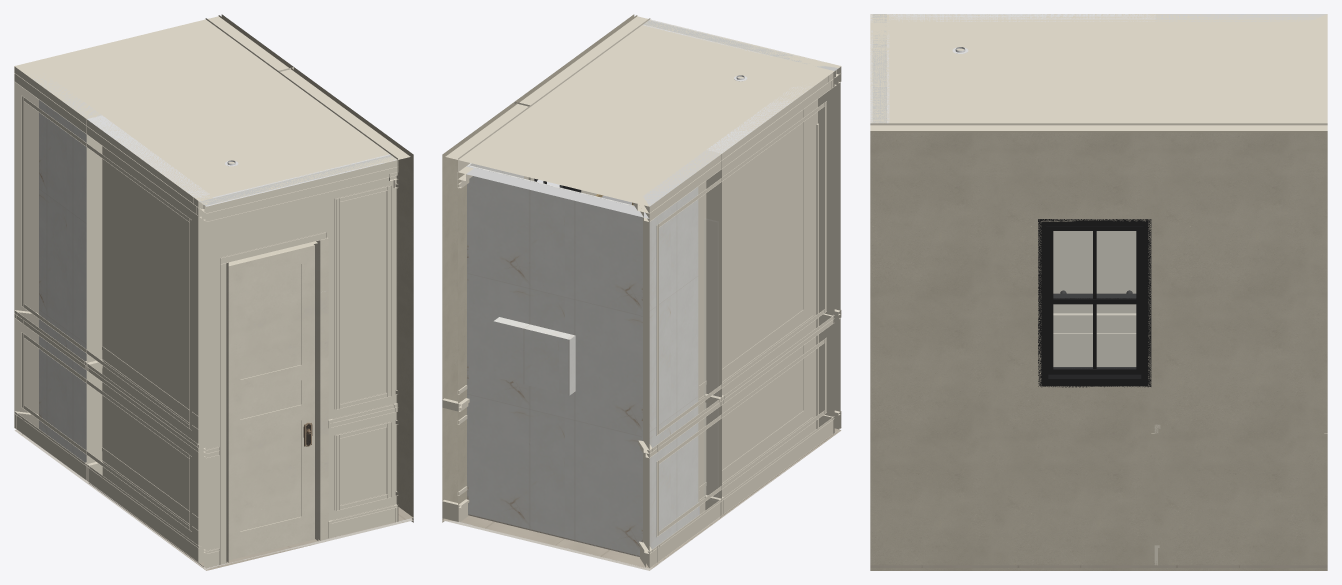
File: loli-bathroom-0c143732f2b9.glb
The picture shows the model from 3 angles, left to right: view 1: azimuth 30°, elevation 25°; view 2: azimuth 150°, elevation 25°; view 3: azimuth 270°, elevation 25°; orthographic projection. The views are drawn at different scales.
Parts seen in each view (by area): view 1: loli-bathroom-2575515a05775d9e, loli-bathroom-03bdd0165789d12b, loli-bathroom-0e637d2be41161fb, loli-bathroom-eceff908bd344cec, loli-bathroom-5795d1714989146e, loli-bathroom-e64cabe238f3e83a, loli-bathroom-319244b3406409d9, loli-bathroom-4a0606b58a607568, loli-bathroom-a8b6749dbb482e83, loli-bathroom-609bc1027670cc96, loli-bathroom-cc15fd6f291c811e, loli-bathroom-e2dd6cf138a61c96 (+19 smaller); view 2: loli-bathroom-51561c1911f47dcb, loli-bathroom-2575515a05775d9e, loli-bathroom-03bdd0165789d12b, loli-bathroom-5795d1714989146e, loli-bathroom-1c7325212038a6e7, loli-bathroom-e462de76b61e99cf, loli-bathroom-a90dd75c175210c7, loli-bathroom-0e637d2be41161fb, loli-bathroom-e64cabe238f3e83a, loli-bathroom-a8b6749dbb482e83, loli-bathroom-cc15fd6f291c811e, loli-bathroom-92c333610bf7beb4 (+13 smaller); view 3: loli-bathroom-319244b3406409d9, loli-bathroom-e462de76b61e99cf, loli-bathroom-2575515a05775d9e, loli-bathroom-15d1eb52c435a27e, loli-bathroom-03bdd0165789d12b, loli-bathroom-0e637d2be41161fb, loli-bathroom-3b0077416469e01b, loli-bathroom-76fec1e12e3db62a, loli-bathroom-1c7325212038a6e7, loli-bathroom-3b79cb6a0eb20f8c, loli-bathroom-687fd4d2e321b111.
Part boxes in pixels (box(x1,y1,x2,y2)): loli-bathroom-2575515a05775d9e: box(14, 15, 410, 201); loli-bathroom-03bdd0165789d12b: box(86, 115, 209, 560); loli-bathroom-0e637d2be41161fb: box(198, 154, 397, 568); loli-bathroom-eceff908bd344cec: box(228, 244, 314, 560); loli-bathroom-5795d1714989146e: box(39, 100, 86, 462); loli-bathroom-e64cabe238f3e83a: box(14, 78, 38, 428); loli-bathroom-319244b3406409d9: box(278, 67, 413, 521); loli-bathroom-4a0606b58a607568: box(318, 237, 328, 540); loli-bathroom-a8b6749dbb482e83: box(14, 412, 199, 562); loli-bathroom-609bc1027670cc96: box(206, 160, 398, 221); loli-bathroom-cc15fd6f291c811e: box(14, 67, 199, 216); loli-bathroom-e2dd6cf138a61c96: box(220, 232, 326, 564); loli-bathroom-51561c1911f47dcb: box(467, 165, 642, 556); loli-bathroom-2575515a05775d9e: box(445, 15, 840, 206); loli-bathroom-03bdd0165789d12b: box(707, 86, 833, 482); loli-bathroom-5795d1714989146e: box(641, 187, 698, 549); loli-bathroom-1c7325212038a6e7: box(643, 150, 721, 567); loli-bathroom-e462de76b61e99cf: box(442, 102, 530, 502); loli-bathroom-a90dd75c175210c7: box(493, 317, 575, 395); loli-bathroom-0e637d2be41161fb: box(643, 19, 840, 433); loli-bathroom-e64cabe238f3e83a: box(458, 165, 649, 548); loli-bathroom-a8b6749dbb482e83: box(649, 417, 834, 567); loli-bathroom-cc15fd6f291c811e: box(649, 72, 834, 221); loli-bathroom-92c333610bf7beb4: box(656, 101, 826, 435); loli-bathroom-319244b3406409d9: box(870, 123, 1155, 565); loli-bathroom-e462de76b61e99cf: box(1155, 123, 1327, 565); loli-bathroom-2575515a05775d9e: box(870, 14, 1327, 132); loli-bathroom-15d1eb52c435a27e: box(1038, 219, 1151, 387); loli-bathroom-03bdd0165789d12b: box(889, 14, 1155, 366); loli-bathroom-0e637d2be41161fb: box(870, 14, 889, 123); loli-bathroom-3b0077416469e01b: box(870, 565, 1327, 567); loli-bathroom-76fec1e12e3db62a: box(870, 568, 1327, 570); loli-bathroom-1c7325212038a6e7: box(1155, 14, 1326, 21); loli-bathroom-3b79cb6a0eb20f8c: box(1053, 313, 1136, 323); loli-bathroom-687fd4d2e321b111: box(872, 14, 883, 123).
Bounding box in the file's own units: 1.8 × 3.05 × 2.88.
Materials: 42 (7 with a texture image).
